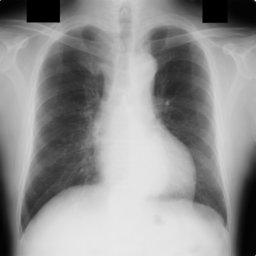left lobe: (150, 26, 227, 222)
right lobe: (21, 26, 111, 228)
